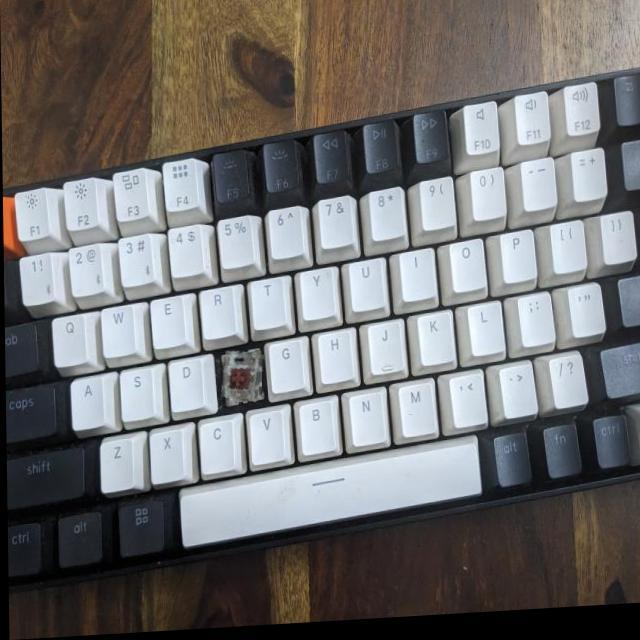key-switch: (218, 352, 263, 406)
